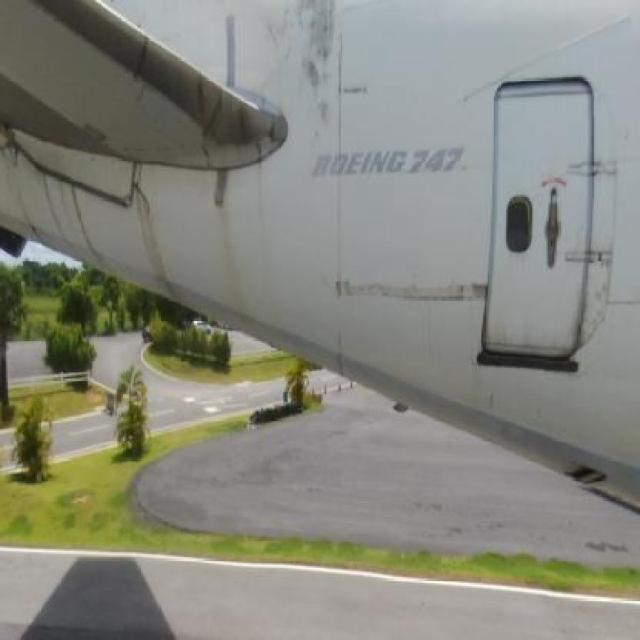Rust: (209, 179, 249, 318), (134, 180, 172, 294)
Scartch: (343, 253, 494, 322), (273, 0, 338, 132), (582, 260, 610, 348)
